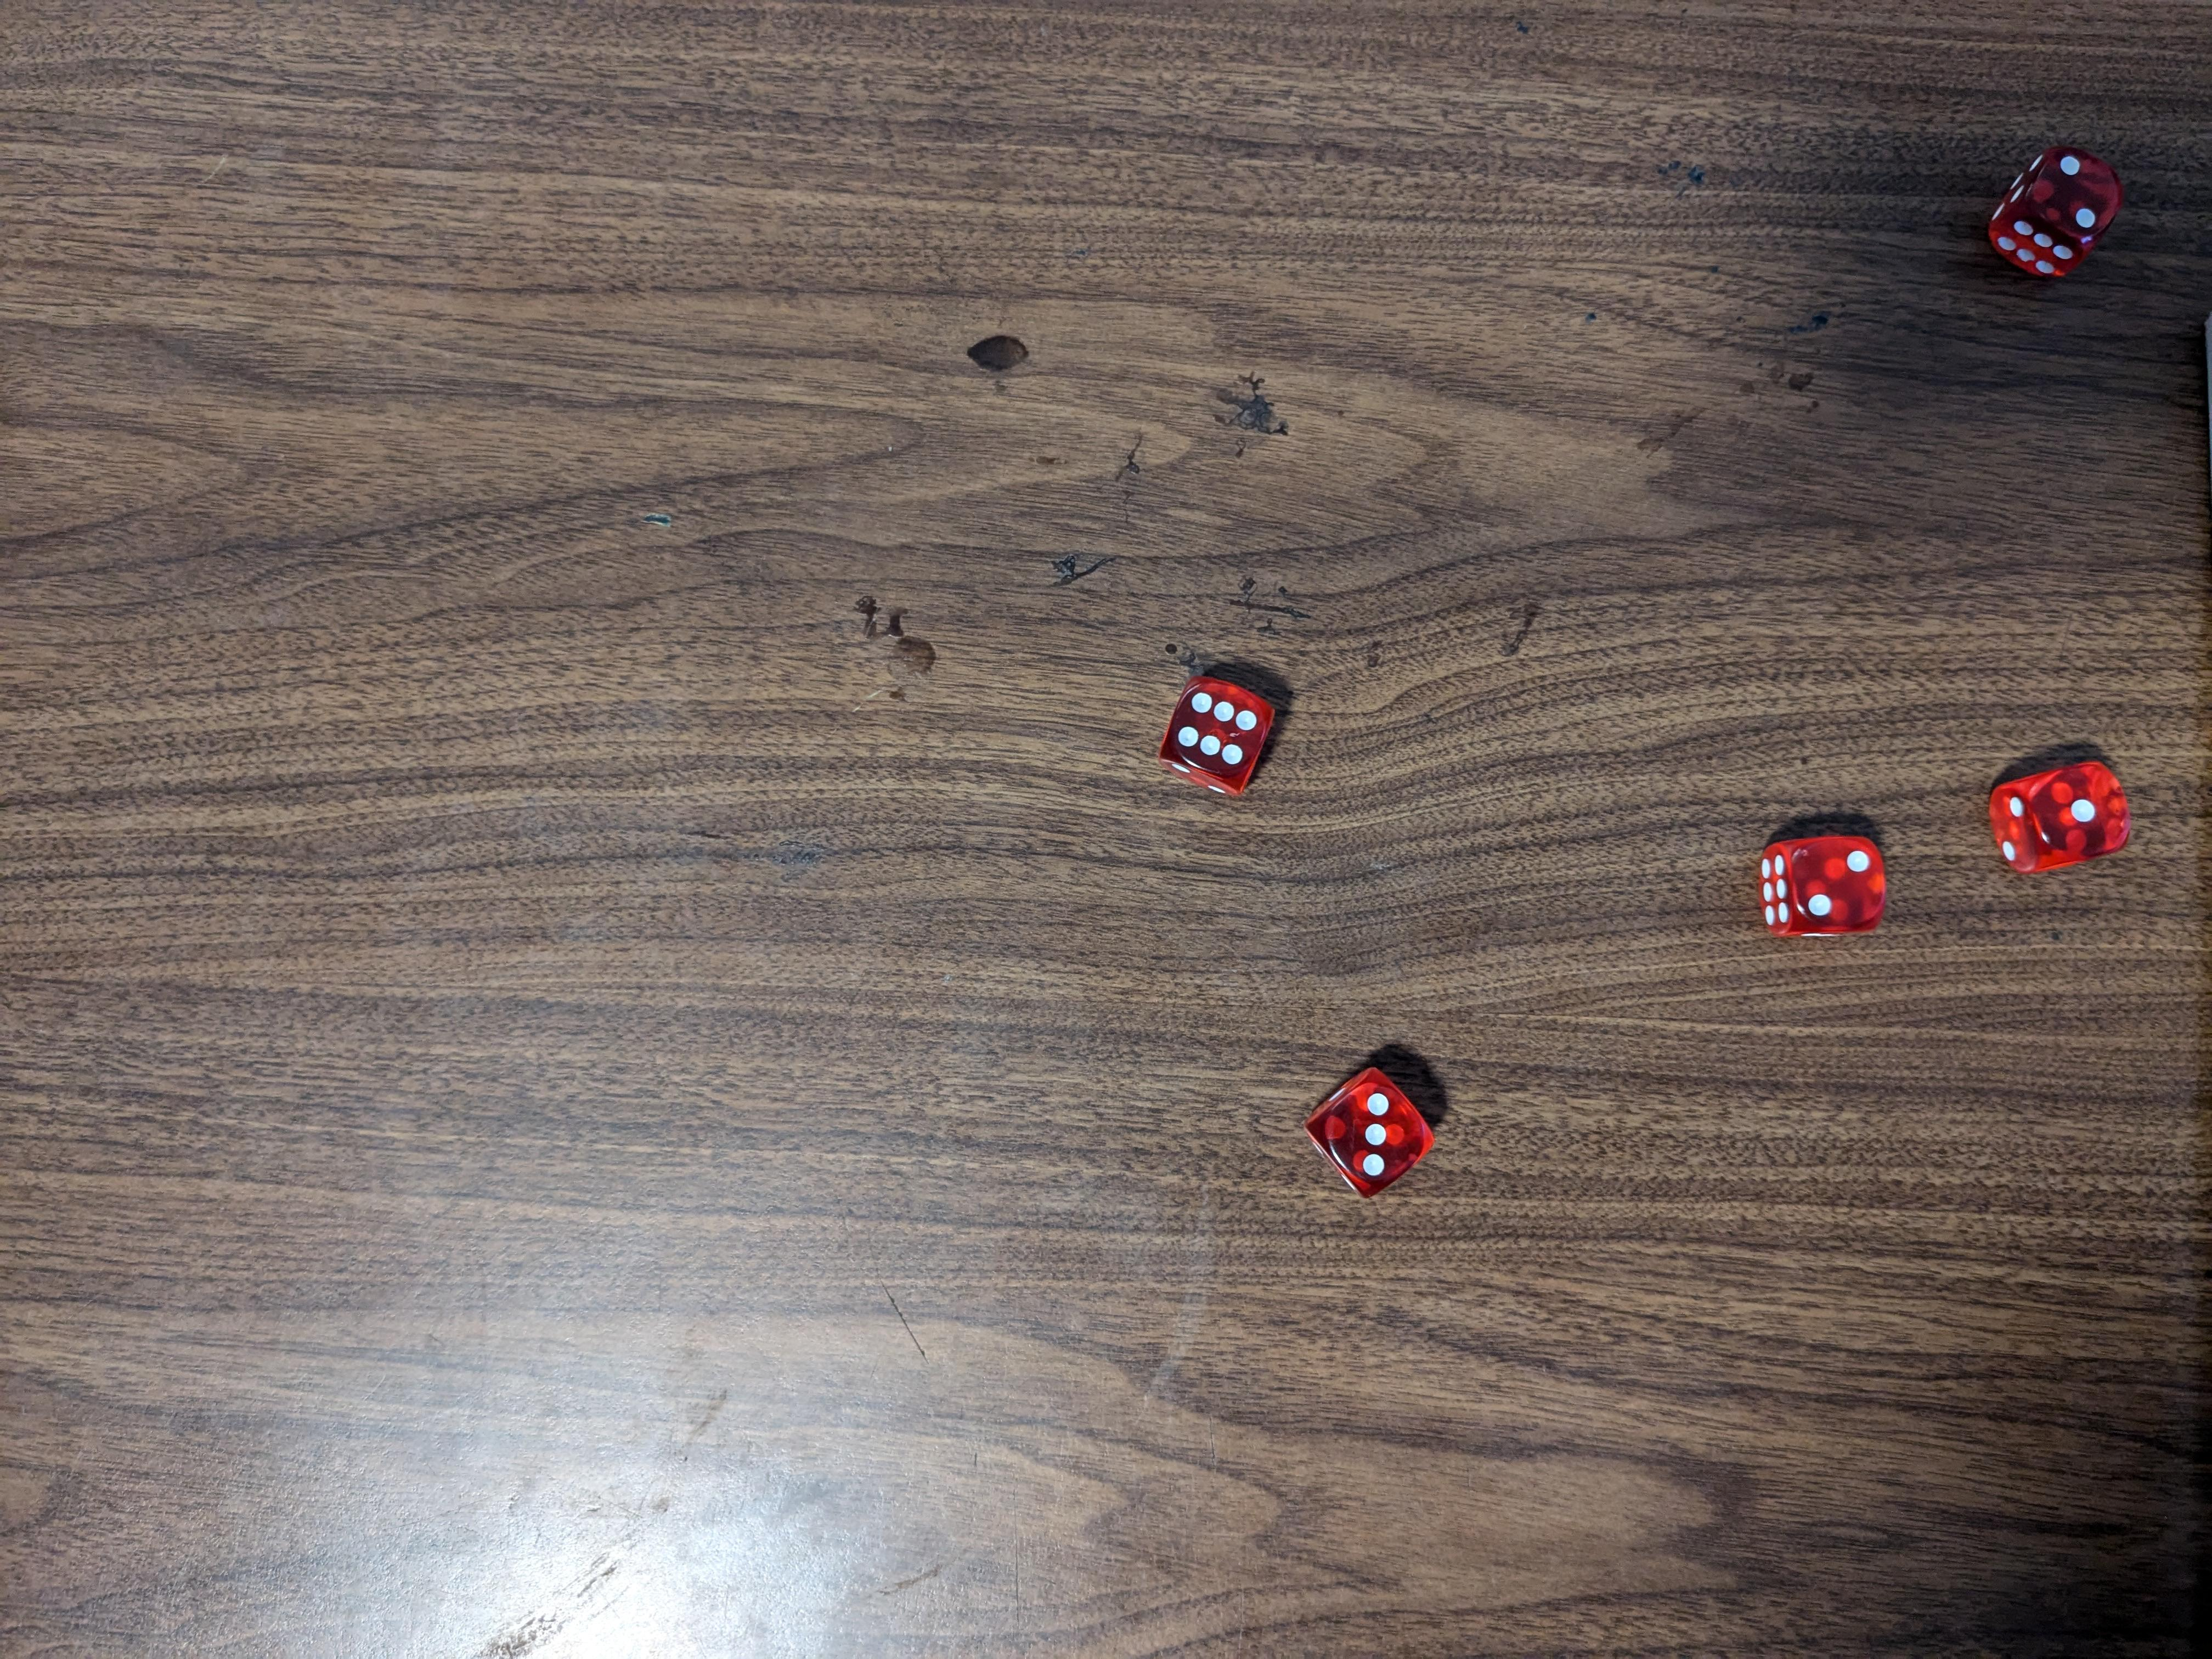one: (1994, 763, 2127, 875)
six: (1160, 676, 1277, 793)
three: (1301, 1063, 1439, 1197)
two: (1757, 828, 1888, 951), (1993, 146, 2118, 274)
